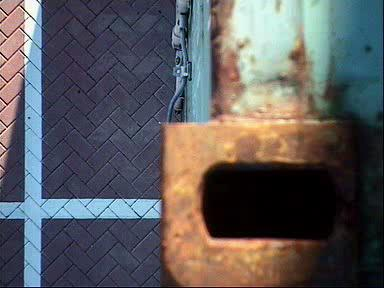groundmarker_2: (21, 148, 117, 266)
